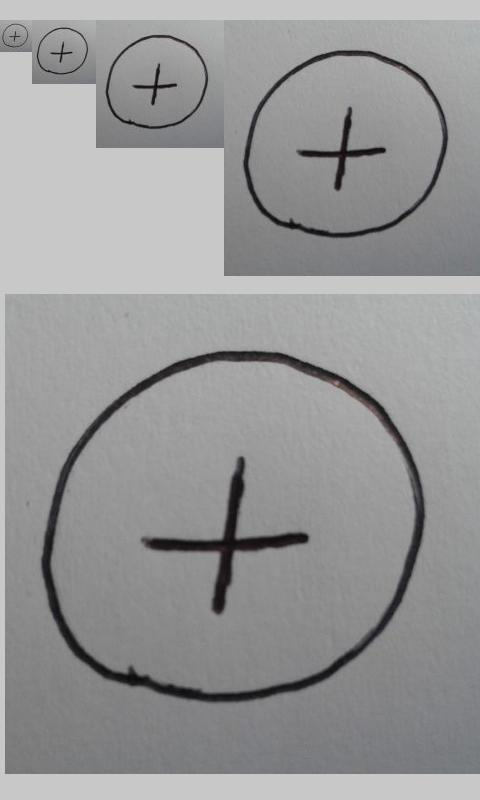button: (39, 348, 426, 703), (242, 47, 449, 240), (105, 34, 209, 129), (36, 27, 88, 75), (2, 23, 29, 48)
